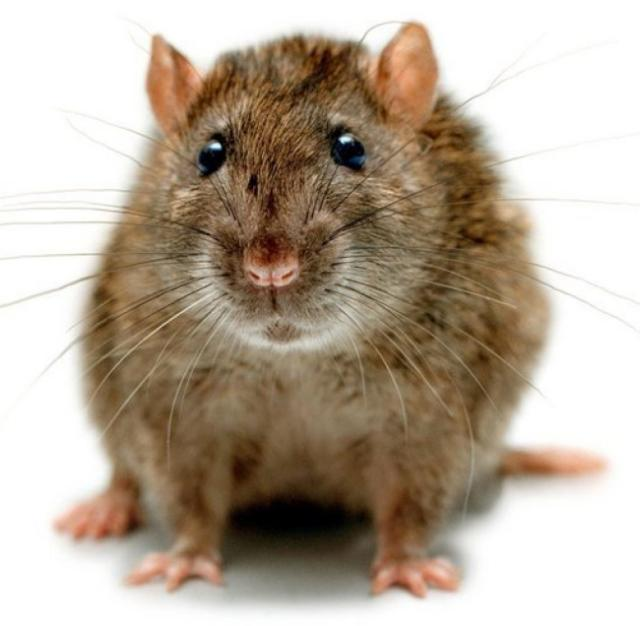rat: (36, 8, 568, 602)
